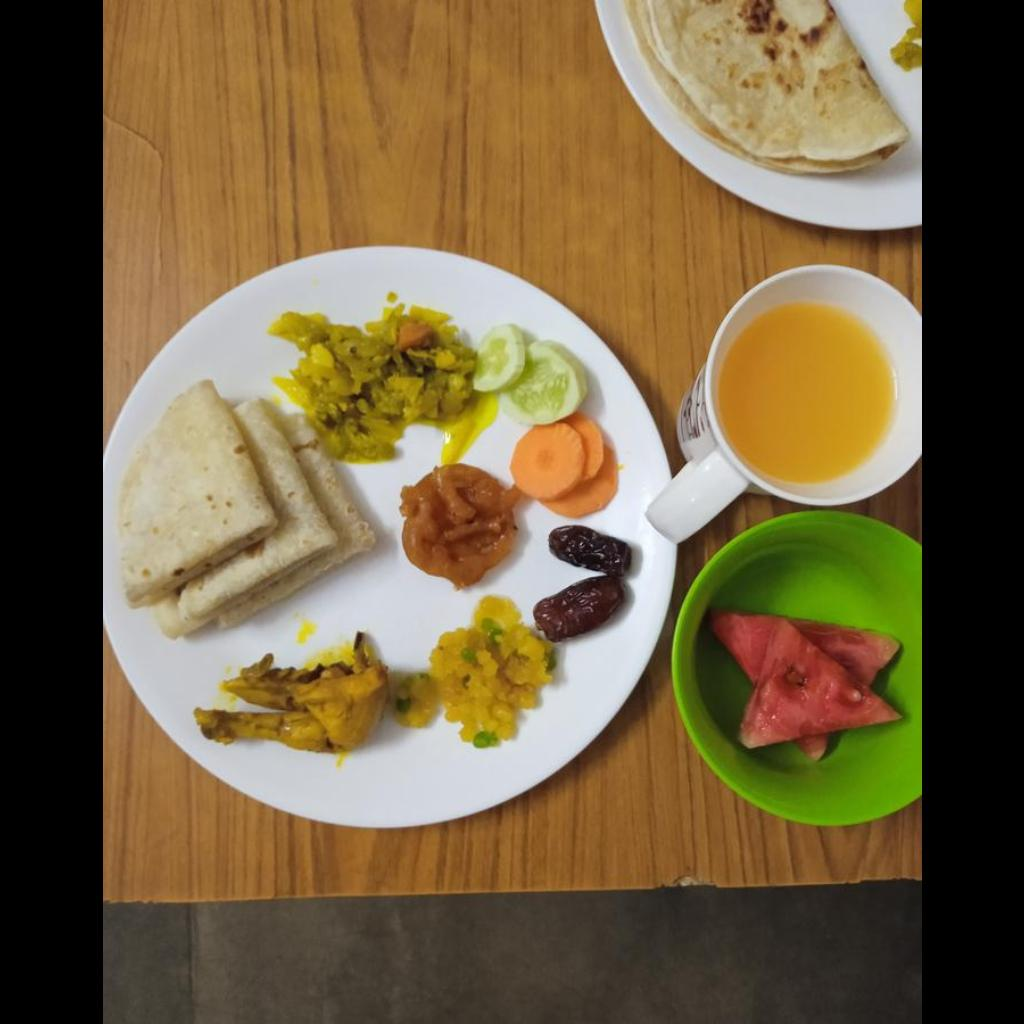burinda: (407, 594, 552, 746)
carrot: (508, 414, 616, 518)
chicken: (199, 642, 392, 755)
cucumber: (476, 327, 586, 421)
dates: (530, 530, 627, 638)
jilapi: (403, 472, 517, 583)
juice: (717, 303, 897, 487)
ruti: (112, 389, 374, 633), (628, 2, 908, 174)
vegetable: (274, 305, 471, 461)
watermelon: (710, 614, 901, 755)
